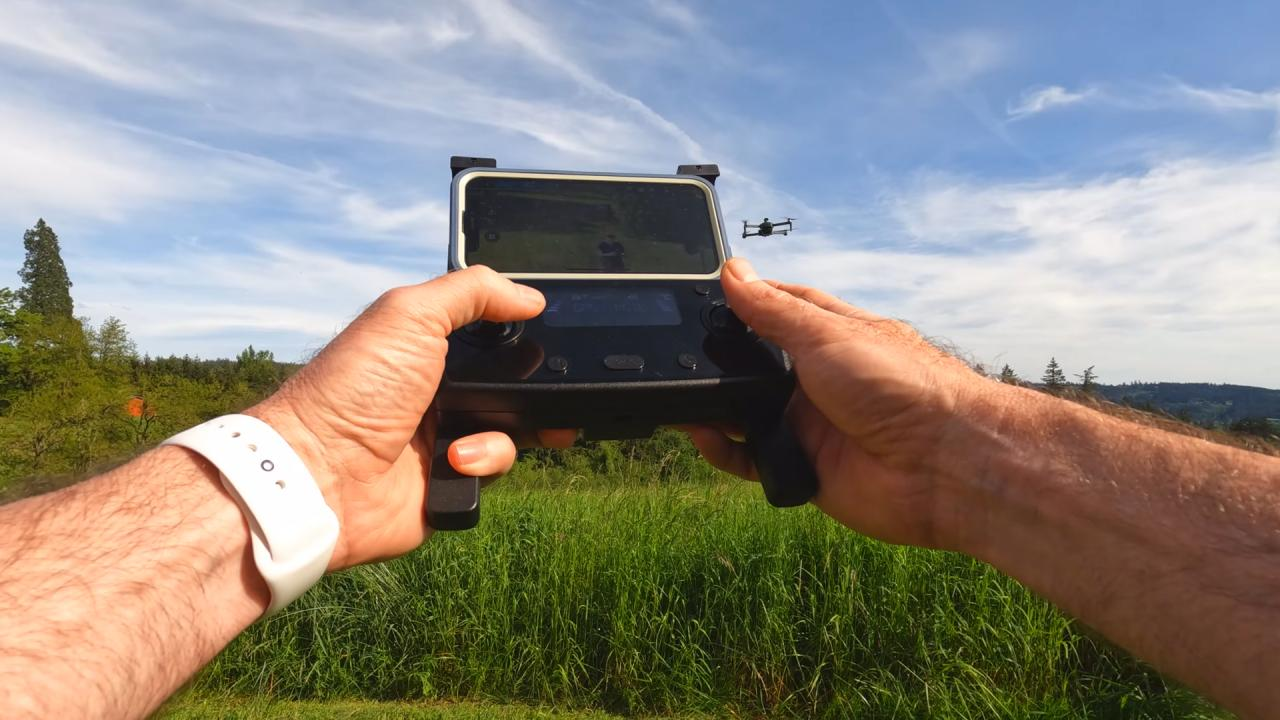Drone: (730, 207, 807, 250)
